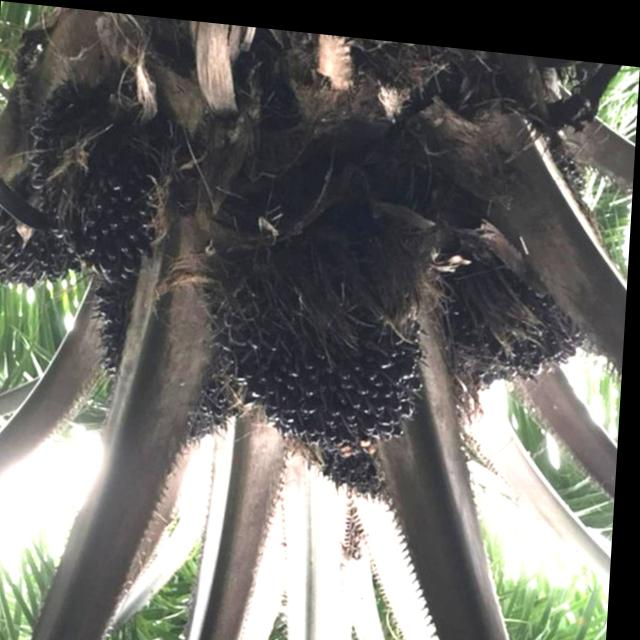ripe: (192, 226, 445, 471)
